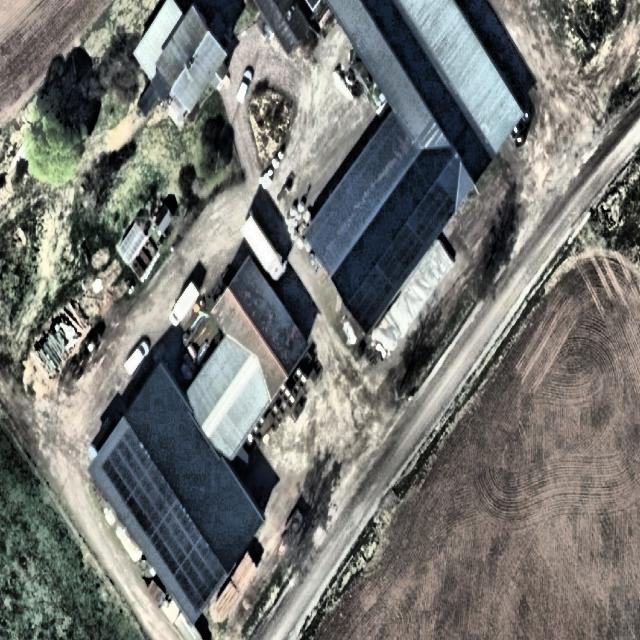roof_pv: (150, 504, 203, 572), (176, 541, 225, 610), (128, 469, 176, 533), (381, 227, 426, 294), (350, 267, 393, 332), (101, 428, 147, 486), (410, 189, 451, 248)
